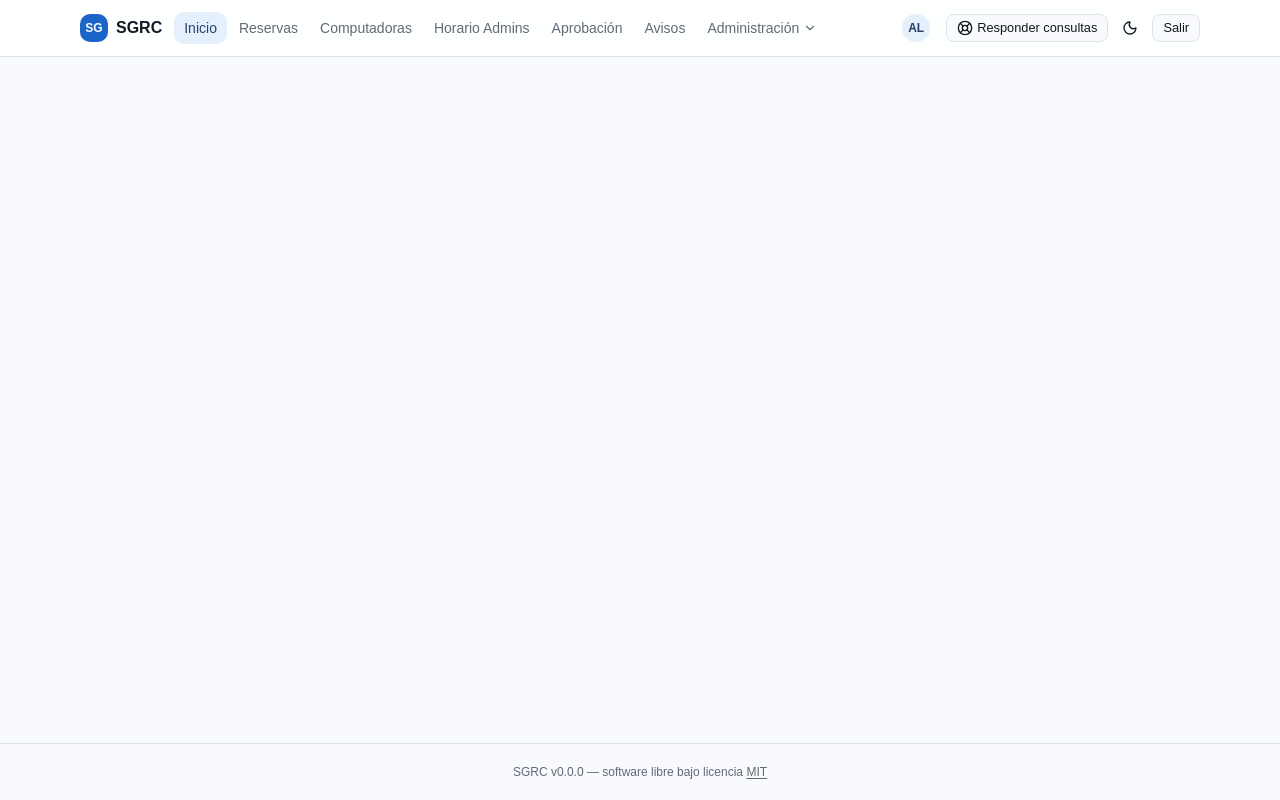
Test case: AppLayout › un Admin llega al resto abriendo el grupo Administración
The width and height of the screenshot is (1280, 800).
Check: the link "Académico" is not shown
Click the button "Administración" at (762, 28), box [697,12,827,44]
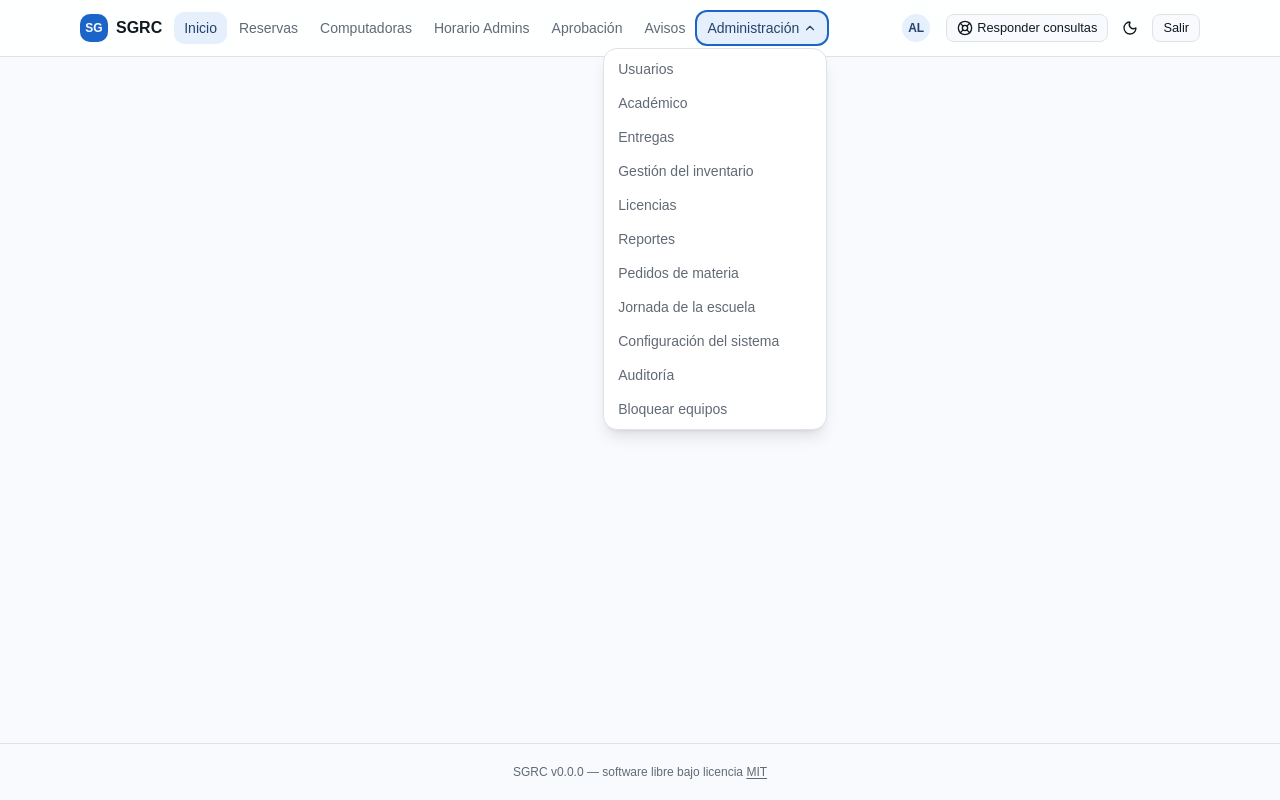
Check: the button "Administración" is expanded, box [697,12,827,44]
Check: the link "Académico" is shown, box [618,95,688,111]
Check: the link "Usuarios" is shown, box [618,61,674,77]
